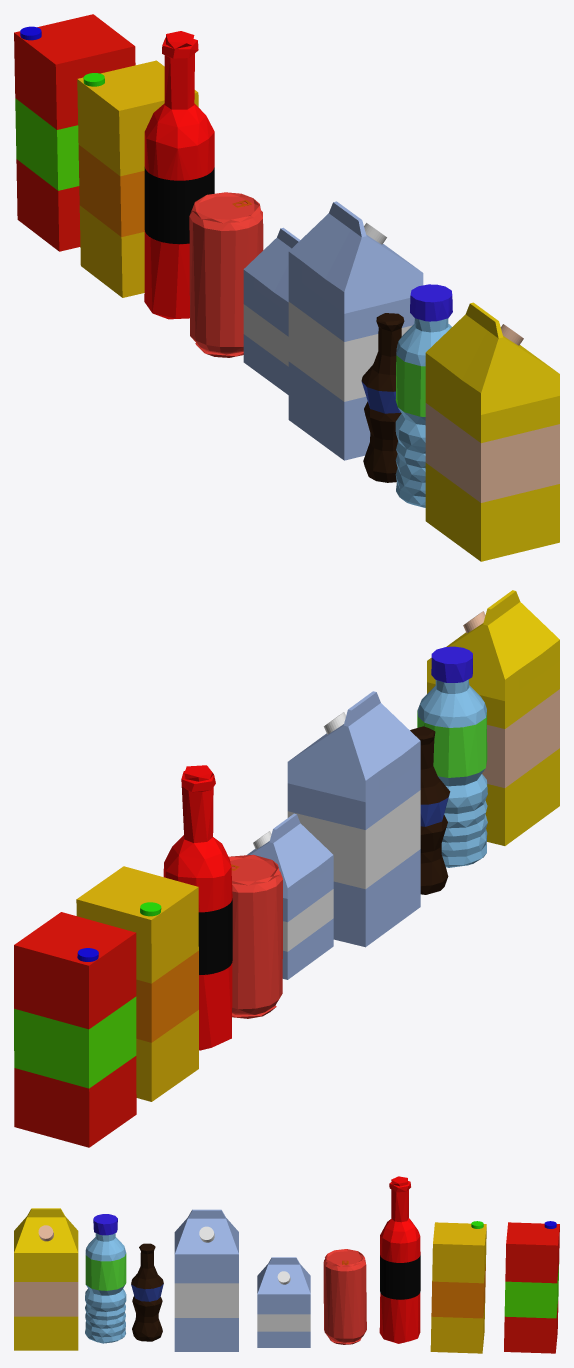
The model's file is Drinks.fbx.
3 views of the same model, one above another, from view 1: azimuth 30°, elevation 25°; view 2: azimuth 150°, elevation 25°; view 3: azimuth 270°, elevation 25° (orthographic). The views are drawn at different scales.
Parts seen in each view (by area): view 1: fruit juice 1, Big milk, fruit juice 2, fruit juice 3, Cylinder, Cylinder.001, water bottle, milk, coke; view 2: fruit juice 2, Big milk, fruit juice 1, fruit juice 3, Cylinder, water bottle, Cylinder.001, milk, coke; view 3: fruit juice 1, Big milk, fruit juice 3, fruit juice 2, Cylinder, water bottle, milk, Cylinder.001, coke.
Boxes of the visible parts, x1,y1,x2,y2 form: fruit juice 1: [425, 302, 559, 561]; Big milk: [288, 201, 423, 460]; fruit juice 2: [14, 14, 135, 251]; fruit juice 3: [77, 60, 198, 297]; Cylinder: [144, 31, 214, 319]; Cylinder.001: [189, 192, 263, 357]; water bottle: [395, 284, 452, 507]; milk: [243, 227, 300, 394]; coke: [361, 313, 404, 482]; fruit juice 2: [14, 912, 136, 1147]; Big milk: [287, 691, 420, 947]; fruit juice 1: [427, 590, 559, 845]; fruit juice 3: [76, 866, 198, 1101]; Cylinder: [163, 765, 232, 1050]; water bottle: [417, 646, 487, 867]; Cylinder.001: [229, 854, 282, 1018]; milk: [246, 813, 333, 979]; coke: [410, 726, 450, 894]; fruit juice 1: [14, 1208, 78, 1350]; Big milk: [174, 1209, 238, 1351]; fruit juice 3: [430, 1221, 486, 1353]; fruit juice 2: [504, 1221, 559, 1353]; Cylinder: [379, 1176, 420, 1343]; water bottle: [85, 1214, 126, 1343]; milk: [257, 1257, 310, 1347]; Cylinder.001: [323, 1249, 366, 1344]; coke: [131, 1243, 163, 1341].
Size of the model in its own units: 179 by 548 by 1699.
